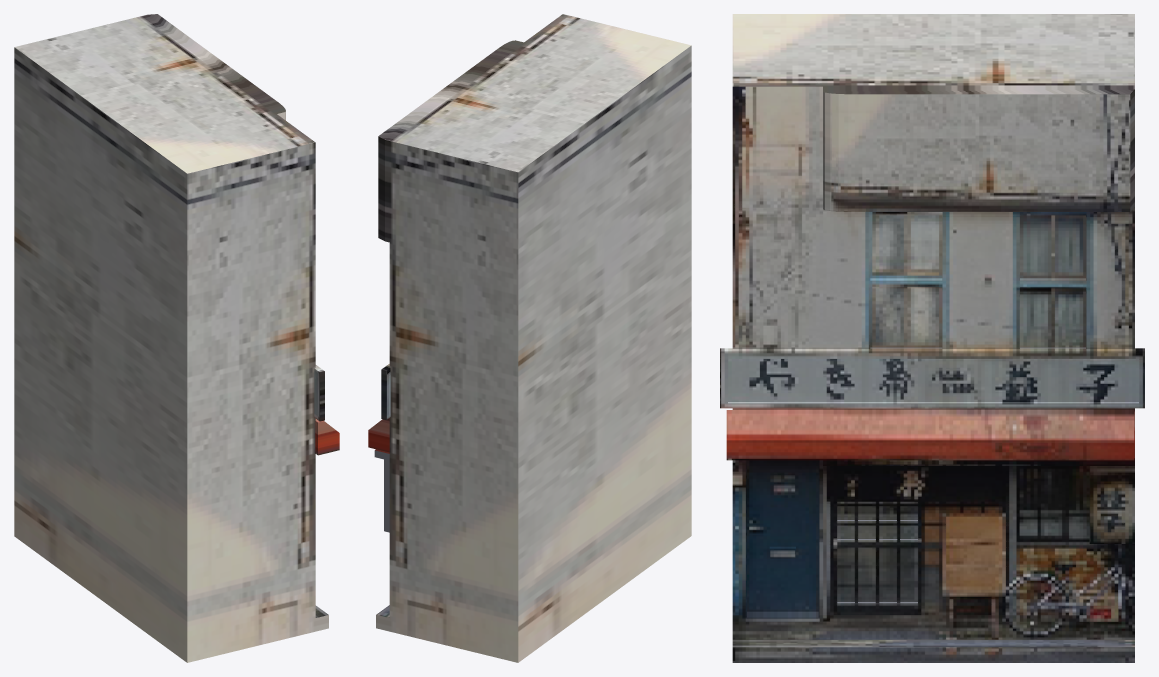
Rendered from japanese_bike_shop.glb.
The picture shows the model from 3 angles, left to right: view 1: azimuth 30°, elevation 25°; view 2: azimuth 150°, elevation 25°; view 3: azimuth 270°, elevation 25°; orthographic projection. The views are drawn at different scales.
Parts seen in each view (by area): view 1: Cube.002; view 2: Cube.002; view 3: Cube.002.
Boxes of the visible parts, x1,y1,x2,y2 form: Cube.002: (14, 14, 339, 662); Cube.002: (368, 14, 691, 662); Cube.002: (720, 14, 1144, 662).
Size of the model in its own units: 3.28 by 10.24 by 6.93.
1 material, 1 textured.
